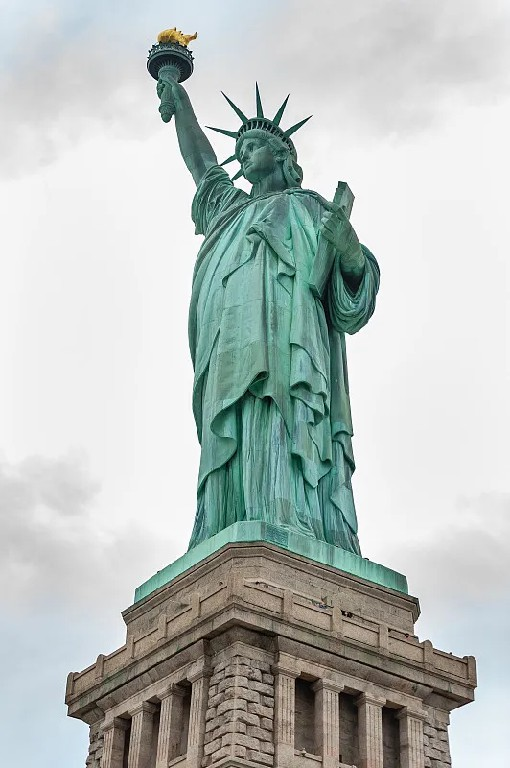SL: (65, 26, 477, 768)
